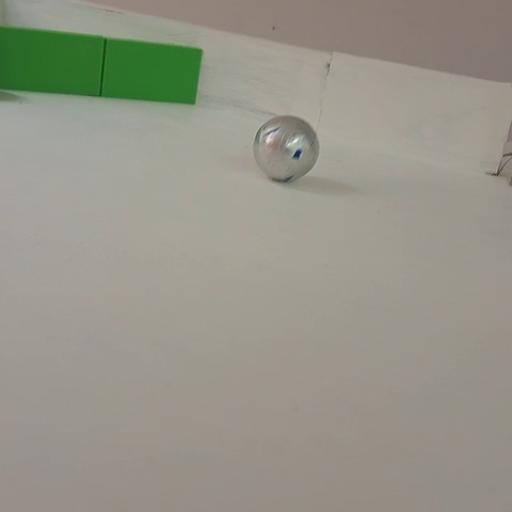alive: (251, 113, 323, 183)
